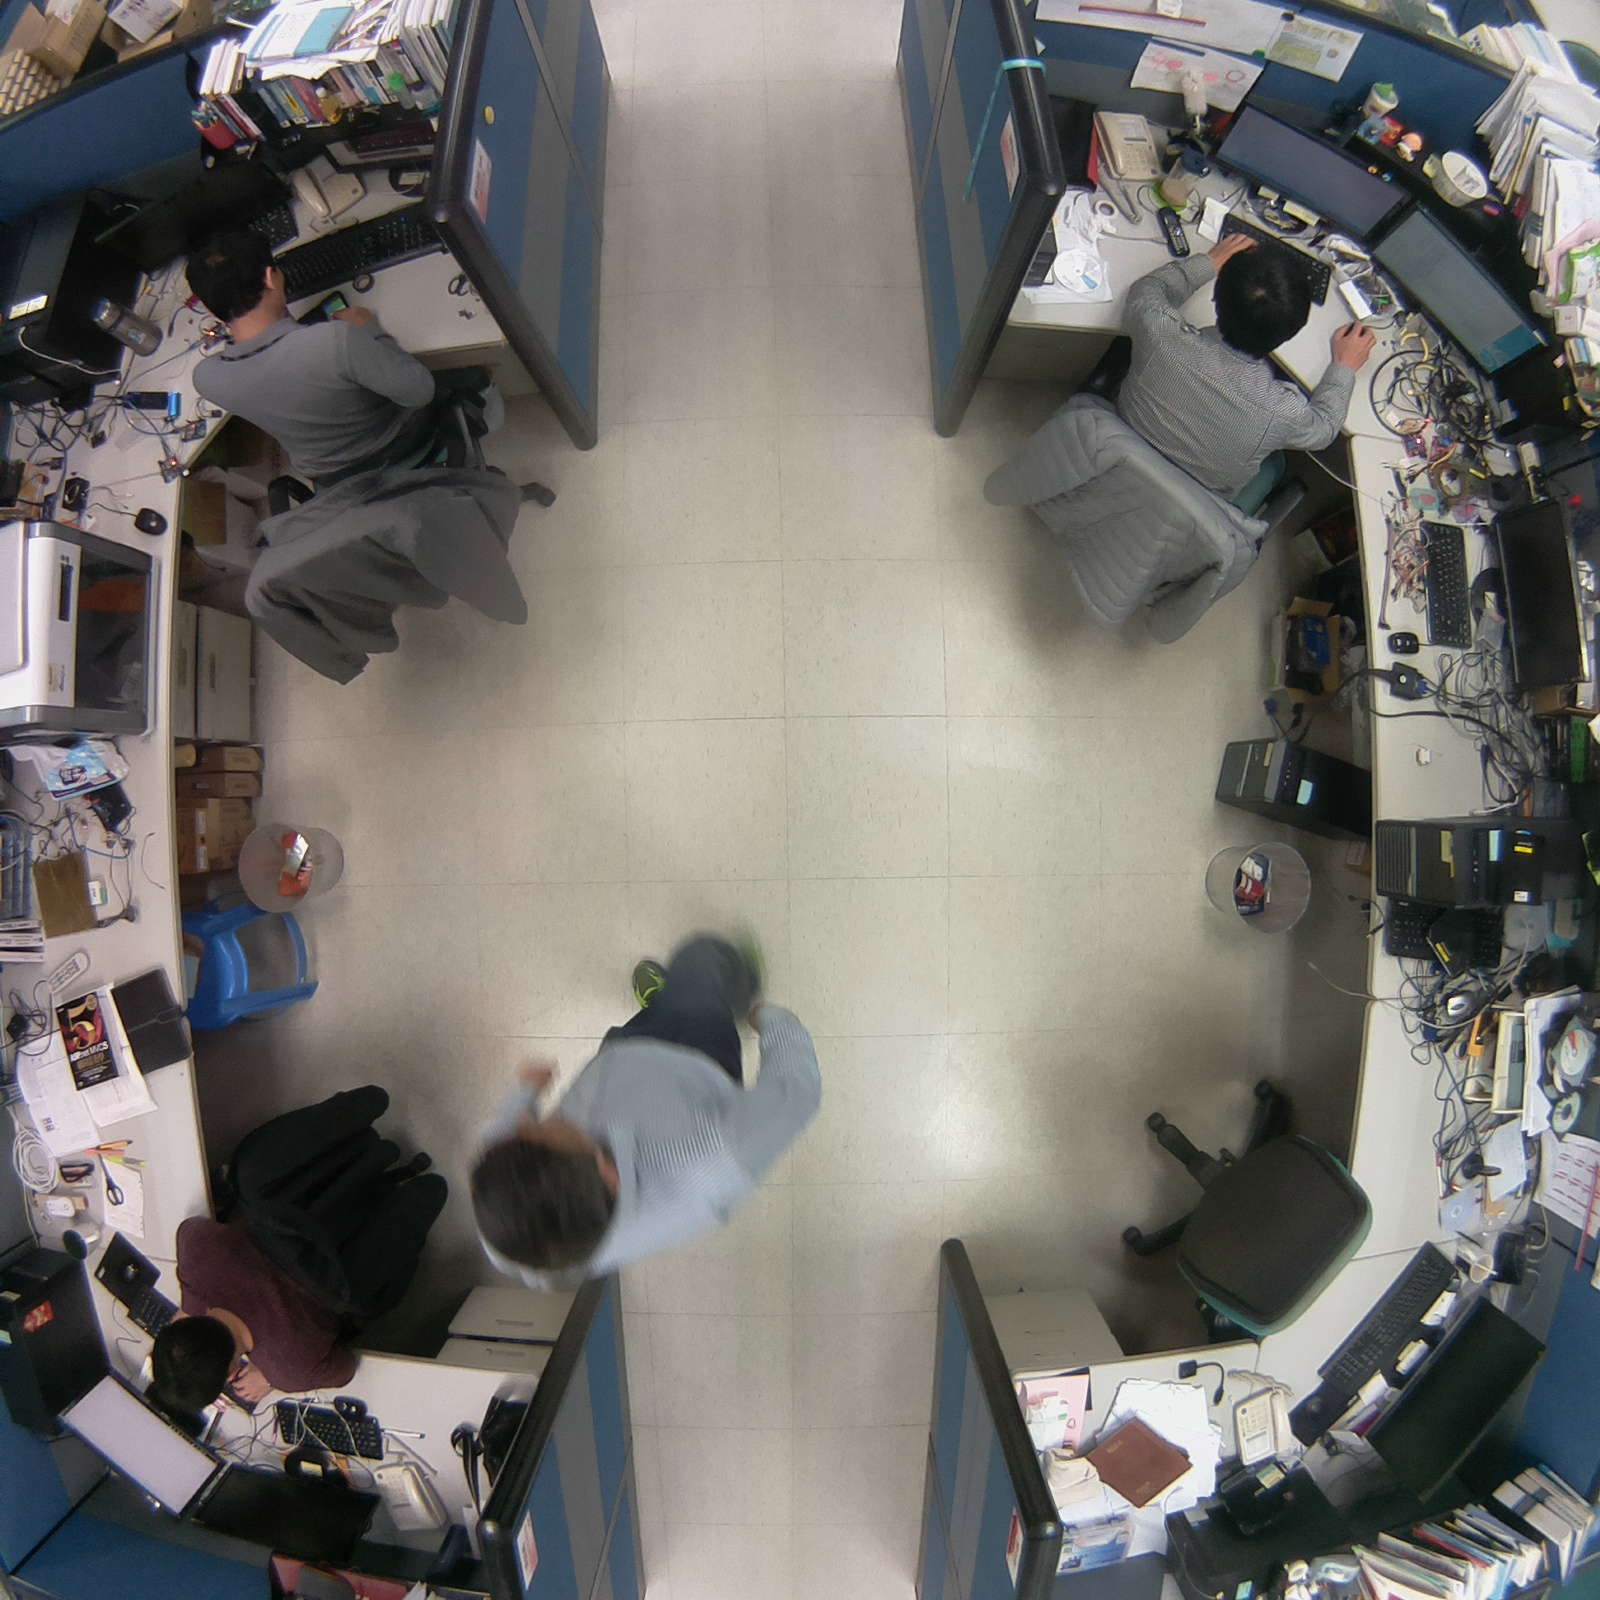chair: (1102, 1067, 1389, 1363)
sitting: (164, 229, 469, 503), (1106, 224, 1386, 504), (126, 1196, 374, 1433)
walking: (442, 913, 856, 1308)
